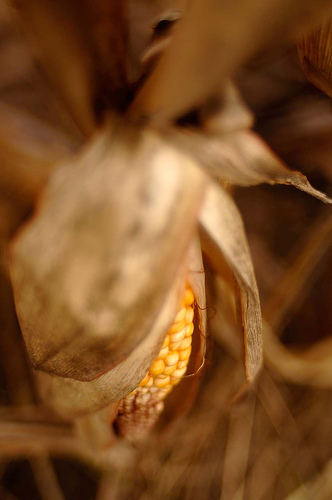corn: (0, 125, 271, 451)
